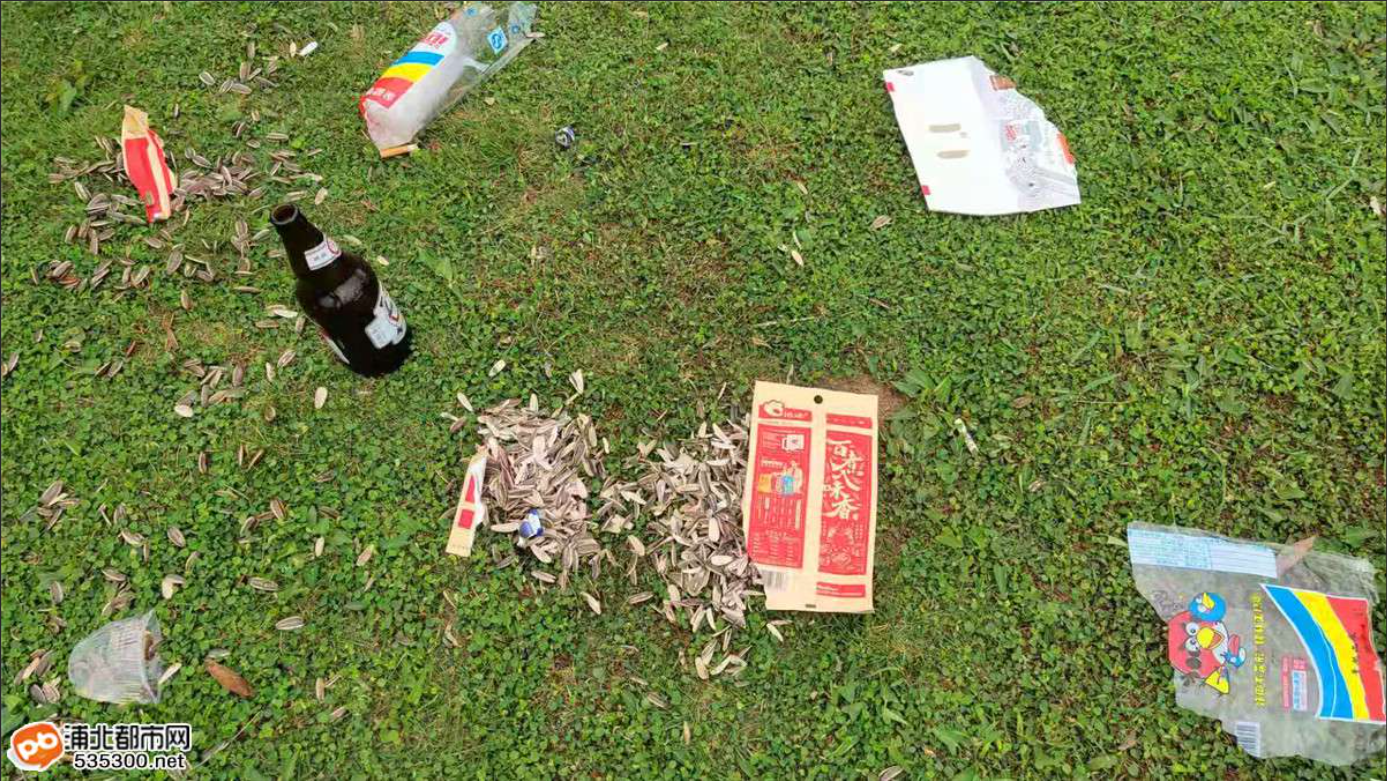garbage: (432, 364, 899, 647), (1102, 511, 1387, 766), (242, 196, 452, 391), (327, 2, 581, 161), (867, 49, 1092, 224), (49, 612, 204, 716), (104, 99, 192, 229)
